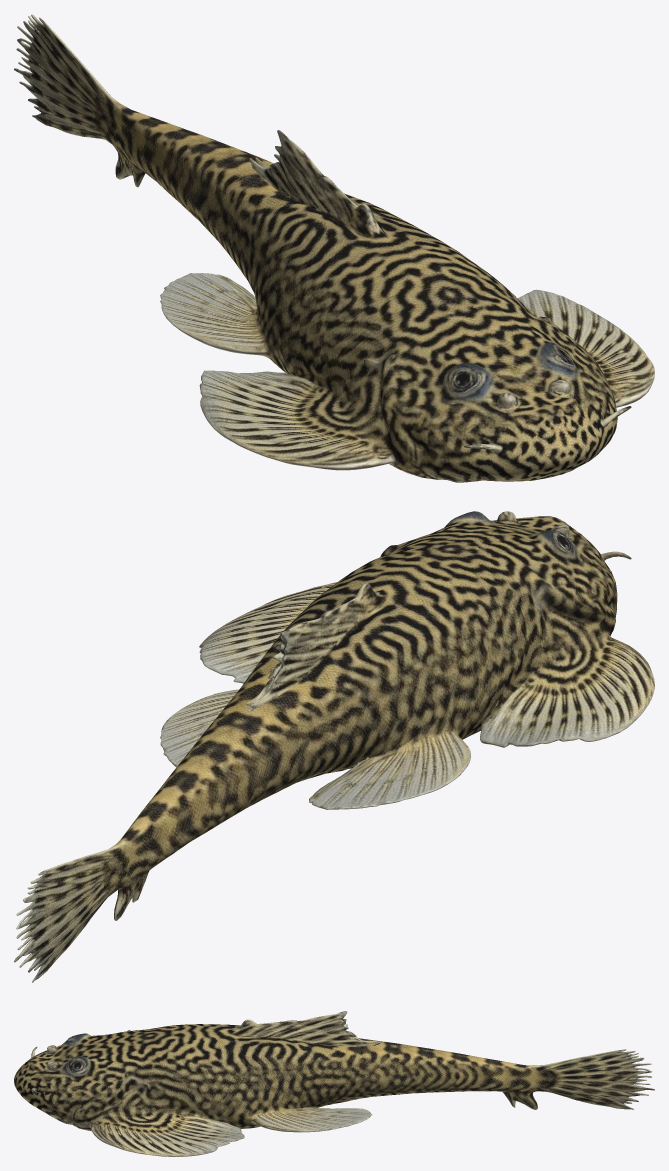
The model's file is hillloach.glb.
The picture shows the model from 3 angles, top to bottom: view 1: azimuth 30°, elevation 25°; view 2: azimuth 150°, elevation 25°; view 3: azimuth 270°, elevation 25°; orthographic projection. The views are drawn at different scales.
Parts seen in each view (by area): view 1: hillloach; view 2: hillloach; view 3: hillloach.
Boxes of the visible parts, x1,y1,x2,y2 form: hillloach: (14,14,654,482); hillloach: (14,511,654,982); hillloach: (14,1011,654,1156).
Bounding box in the file's own units: 0.0276 × 0.0121 × 0.065.
Materials: 1 (1 with a texture image).
